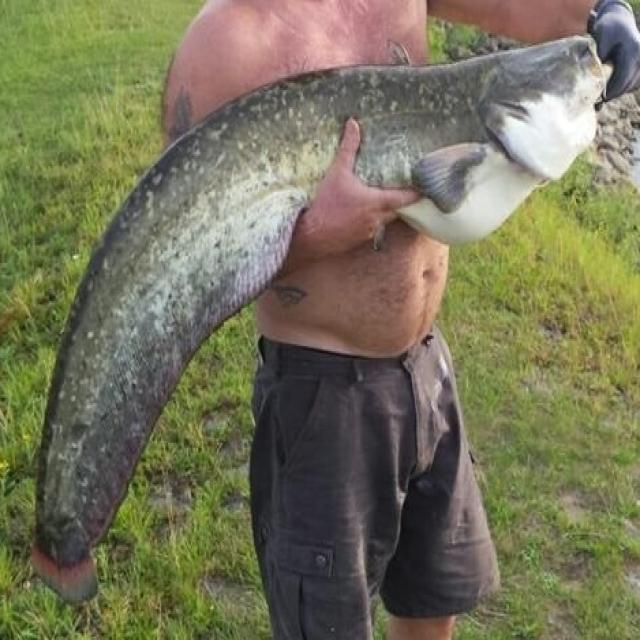Catfish: (12, 4, 624, 625)
